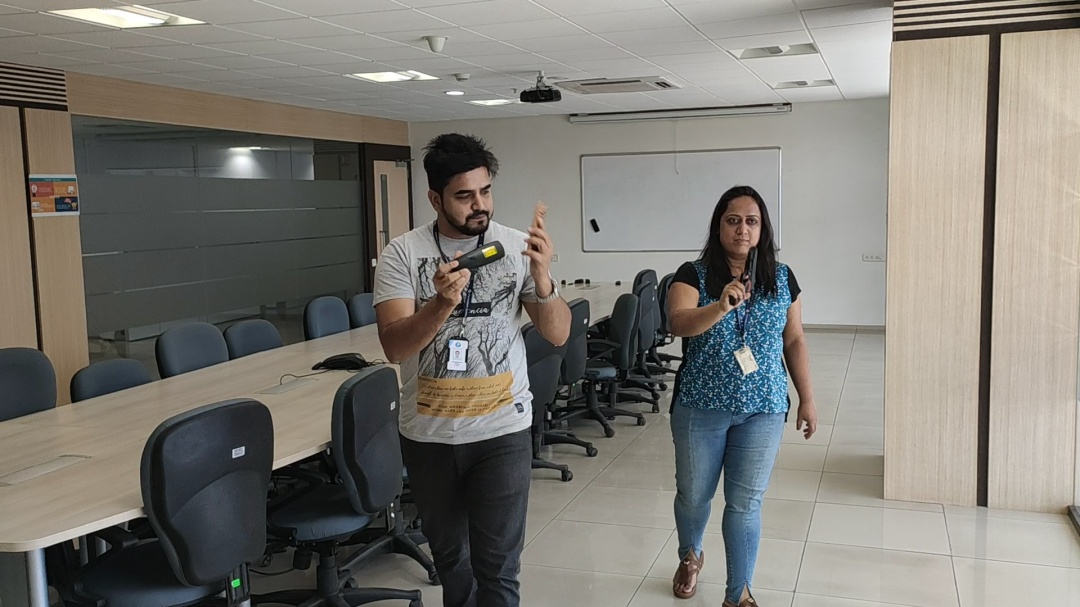gun: (728, 245, 760, 303)
